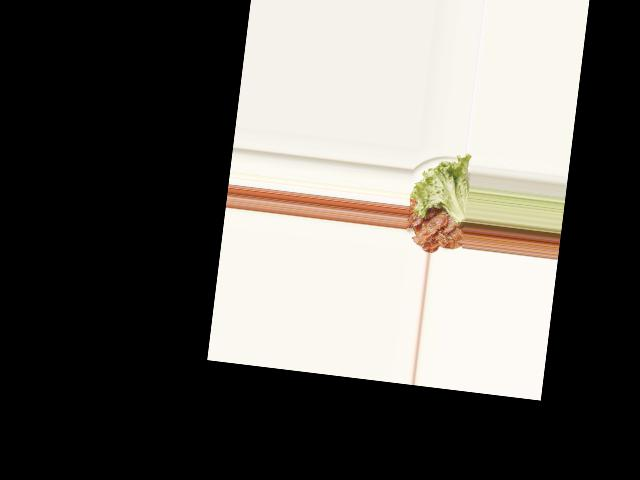lettuce: (409, 151, 473, 222)
